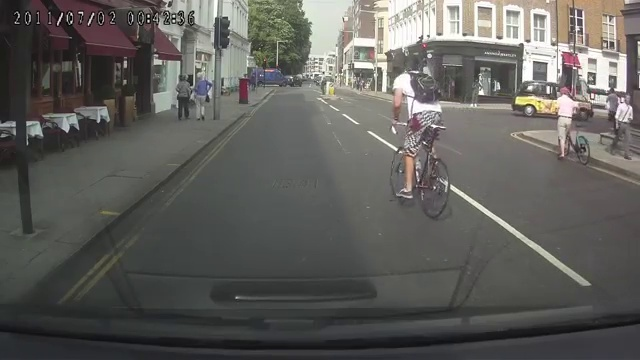cyclist_back: (382, 54, 453, 223), (553, 83, 594, 168)
